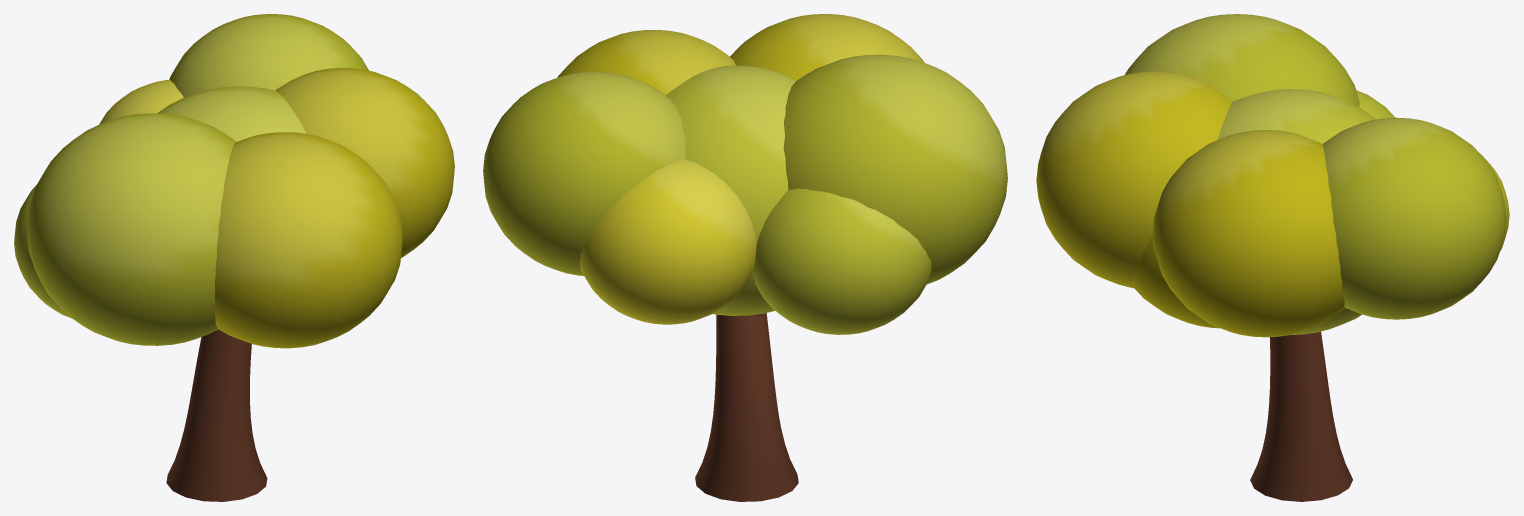
The model's file is tree-104.obj.
The picture shows the model from 3 angles, left to right: view 1: azimuth 30°, elevation 25°; view 2: azimuth 150°, elevation 25°; view 3: azimuth 270°, elevation 25°; orthographic projection. The views are drawn at different scales.
Visible parts, largest first — view 1: tree; view 2: tree; view 3: tree.
Boxes of the visible parts, left/top/right/bottom form: tree: left=14, top=14, right=454, bottom=501; tree: left=483, top=14, right=1007, bottom=501; tree: left=1036, top=14, right=1509, bottom=501.
Bounding box in the file's own units: 330 × 308 × 326.
